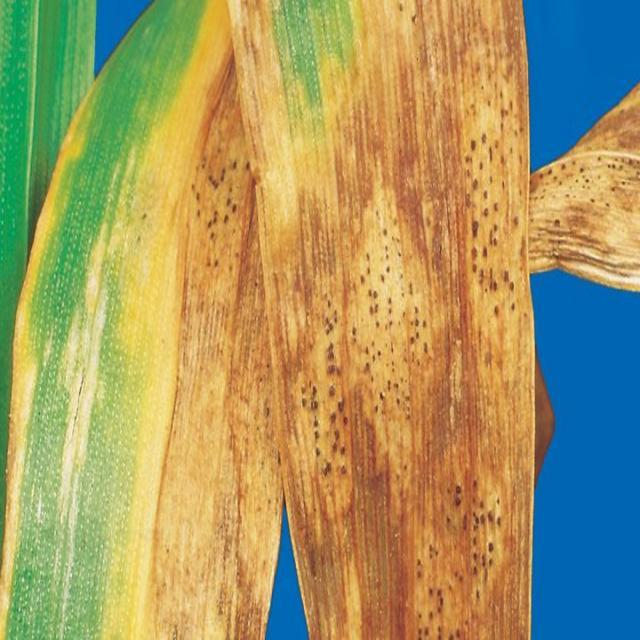wheat-stemrust: (0, 0, 556, 640)
